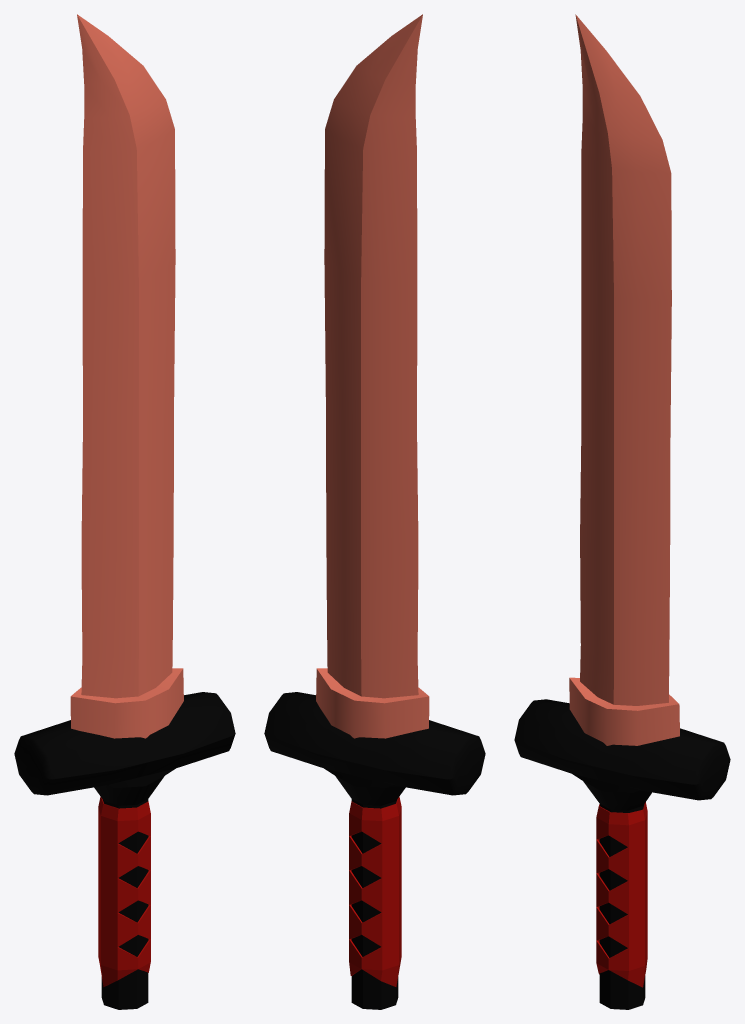
Rendered from espada_de_fuego.fbx.
3 renders of one model, left to right at view 1: azimuth 30°, elevation 25°; view 2: azimuth 150°, elevation 25°; view 3: azimuth 330°, elevation 25°, orthographic. The views are drawn at different scales.
Visible parts, largest first — view 1: Plane, Cylinder.001, Circle; view 2: Plane, Cylinder.001, Circle; view 3: Plane, Cylinder.001, Circle.
Part boxes in pixels (left/top/right/bottom): Plane: left=70, top=14, right=183, bottom=738; Cylinder.001: left=14, top=692, right=235, bottom=1009; Circle: left=98, top=796, right=150, bottom=986; Plane: left=316, top=14, right=429, bottom=738; Cylinder.001: left=264, top=692, right=485, bottom=1009; Circle: left=349, top=796, right=401, bottom=986; Plane: left=569, top=14, right=679, bottom=745; Cylinder.001: left=514, top=699, right=730, bottom=1009; Circle: left=596, top=802, right=647, bottom=987.
Bounding box in the file's own units: 147 × 732 × 65.94.
